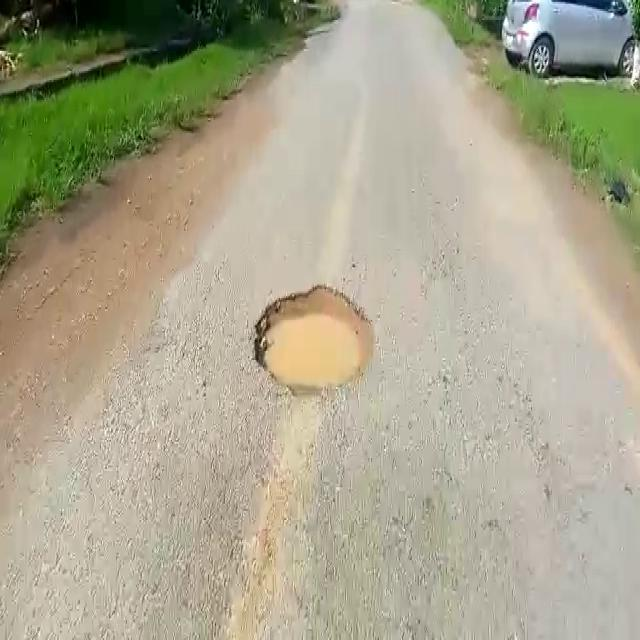pothole: (254, 288, 376, 396)
